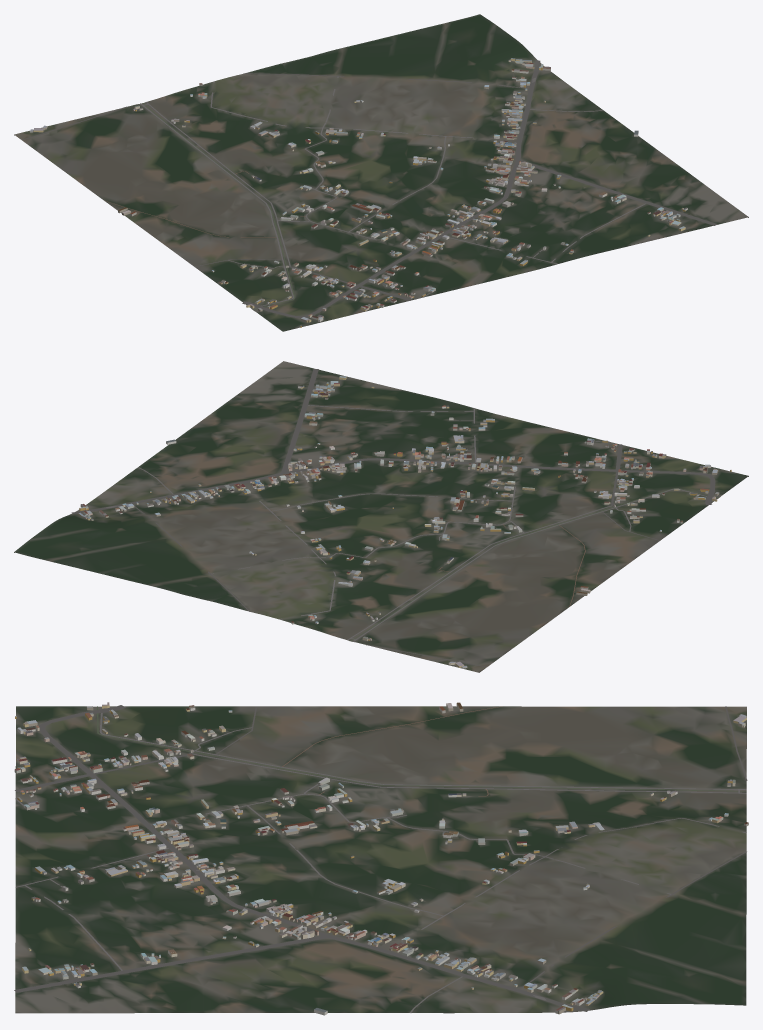
3 views of the same model, one above another, from view 1: azimuth 30°, elevation 25°; view 2: azimuth 150°, elevation 25°; view 3: azimuth 270°, elevation 25° (orthographic). The views are drawn at different scales.
Visible parts, largest first — view 1: ground, buildings, roads; view 2: ground, buildings, roads; view 3: ground, buildings, roads, water.
Part boxes in pixels (x1,y1,x2,y2): ground: (14,14,748,331); buildings: (30,58,687,327); roads: (22,60,717,318); ground: (14,361,748,672); buildings: (78,376,731,668); roads: (71,369,715,667); ground: (15,706,746,1013); buildings: (14,702,748,1015); roads: (14,705,747,1012); water: (97,706,746,791).
Bounding box in the file's own units: 1416 × 27 × 1408.
